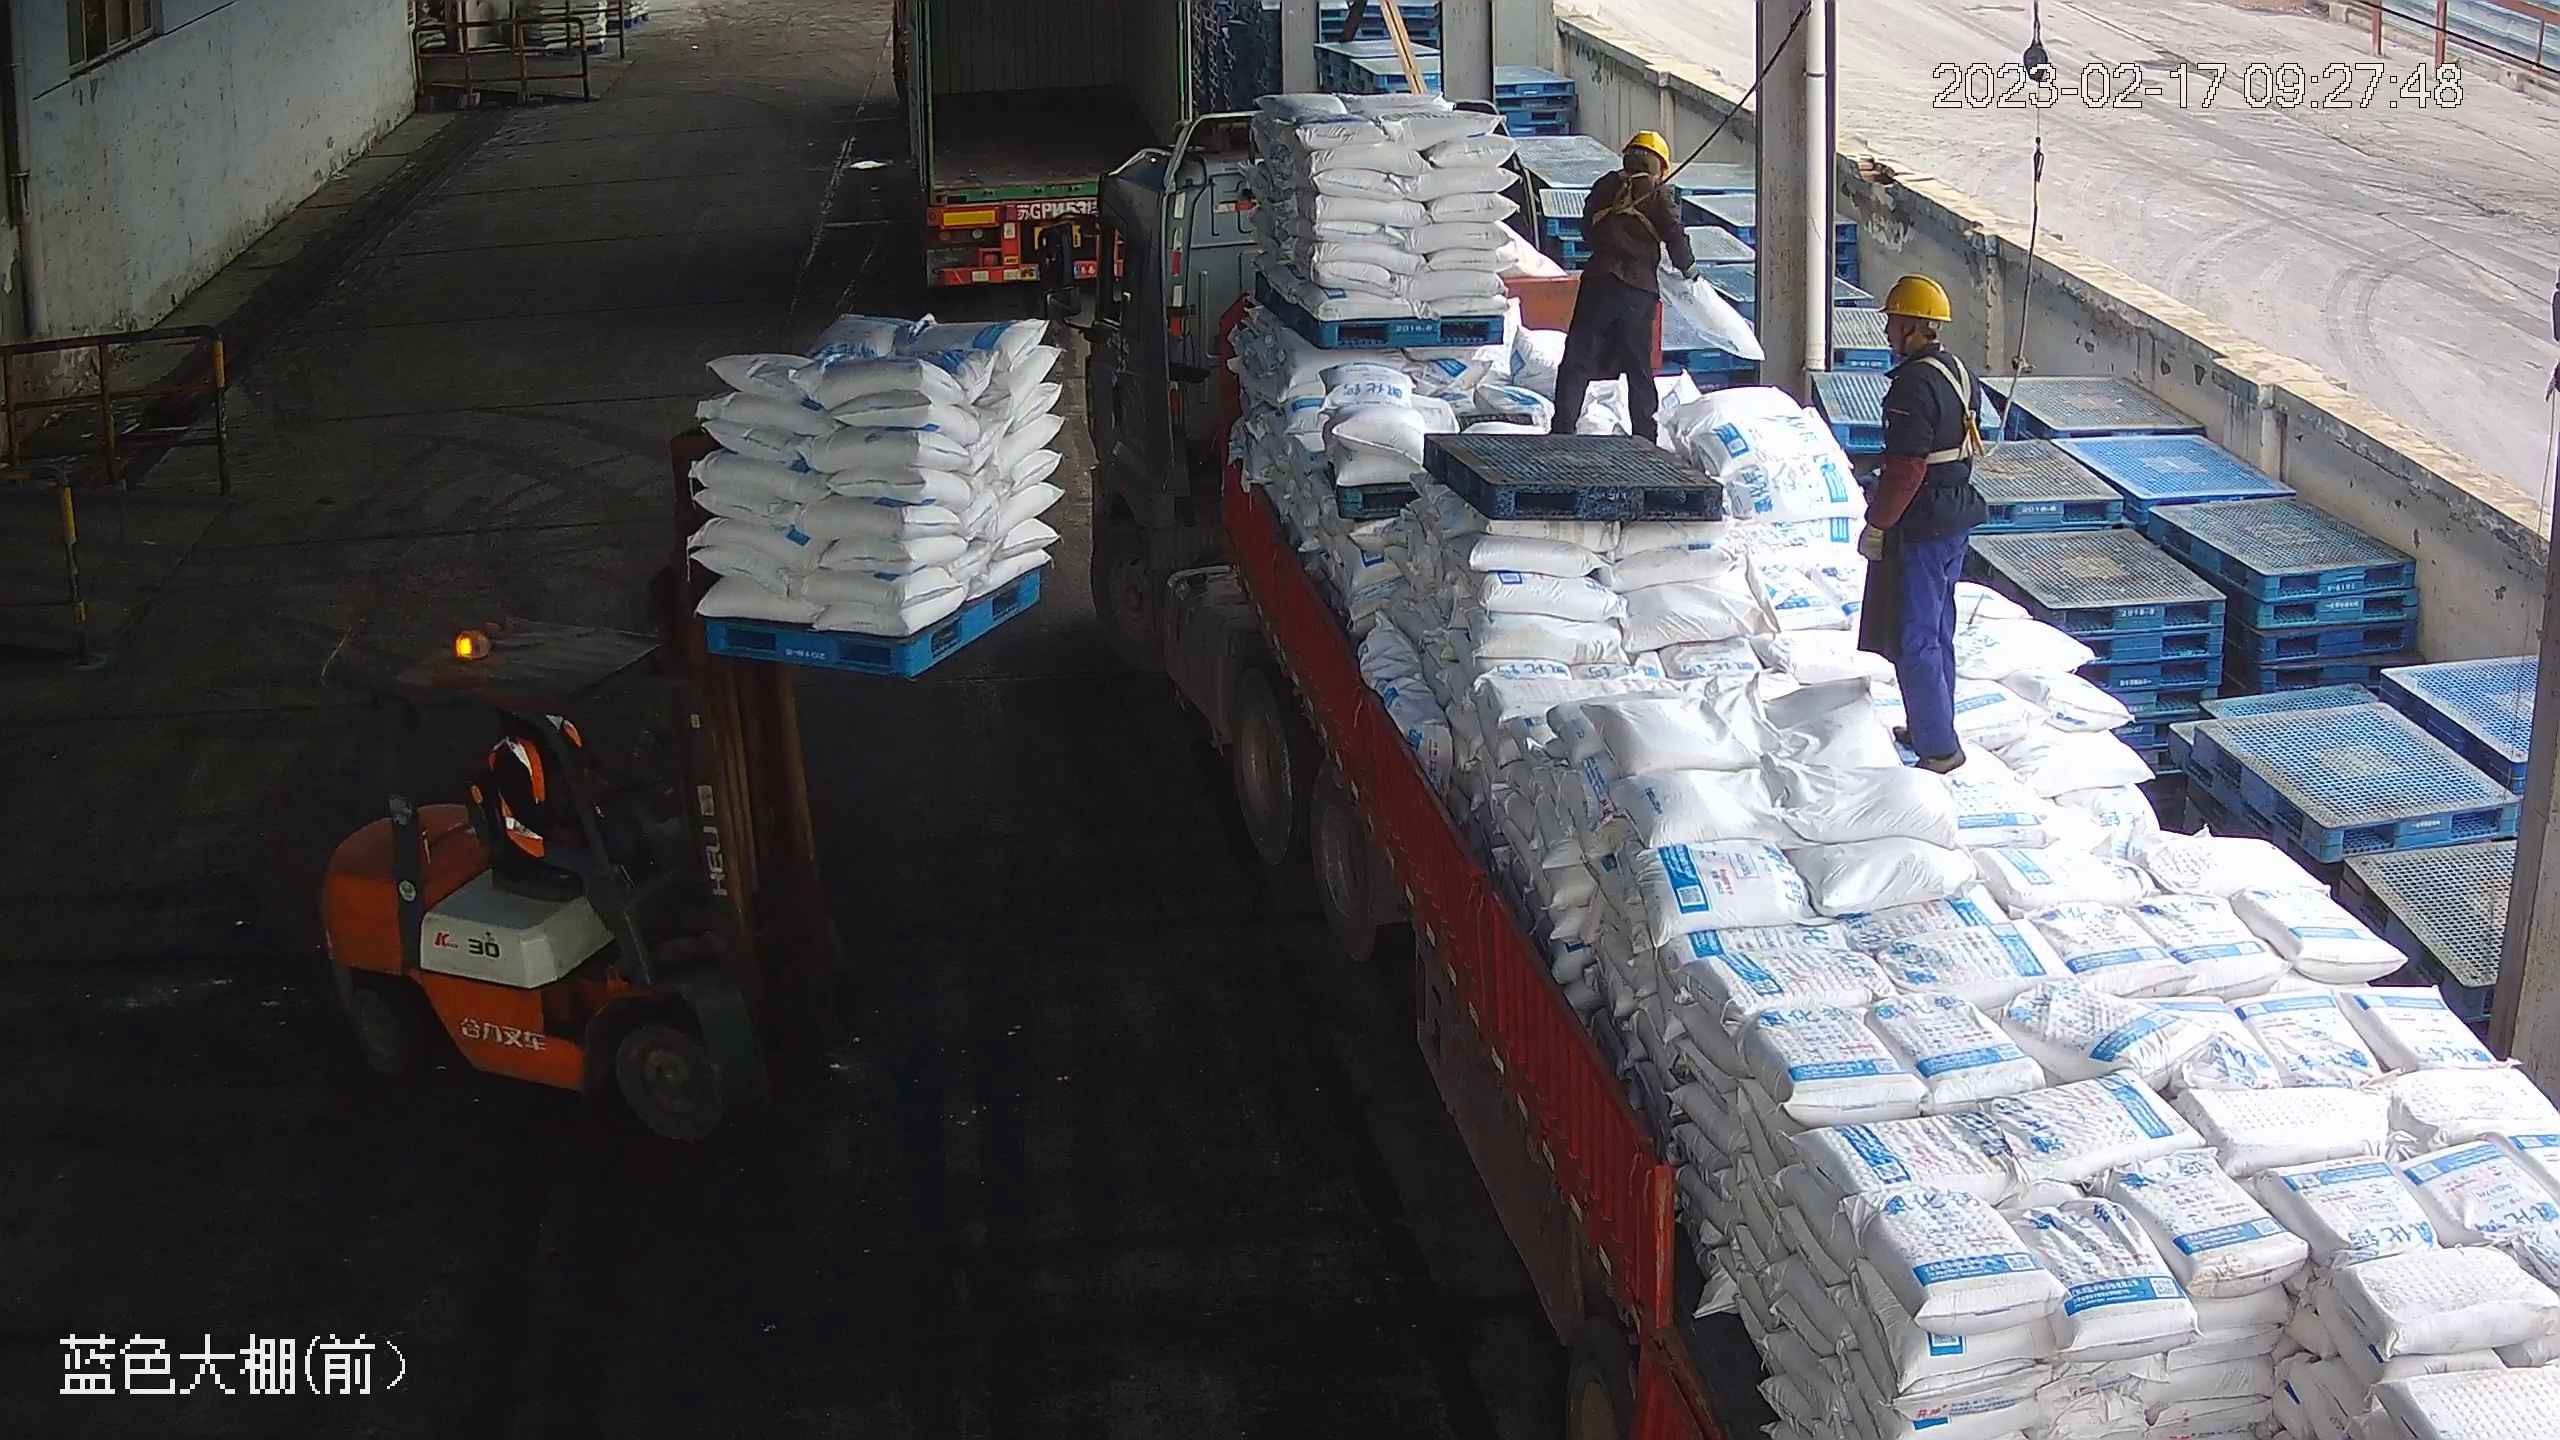belt: (1907, 351, 1997, 468), (1589, 172, 1665, 237)
head: (1864, 269, 1986, 416), (1583, 126, 1678, 219)
helmet: (1876, 268, 1950, 321), (1623, 128, 1673, 173)
people: (1849, 270, 1986, 772), (1547, 127, 1693, 439), (486, 711, 653, 947)
truck: (1033, 95, 2551, 1438), (886, 1, 1210, 303)
